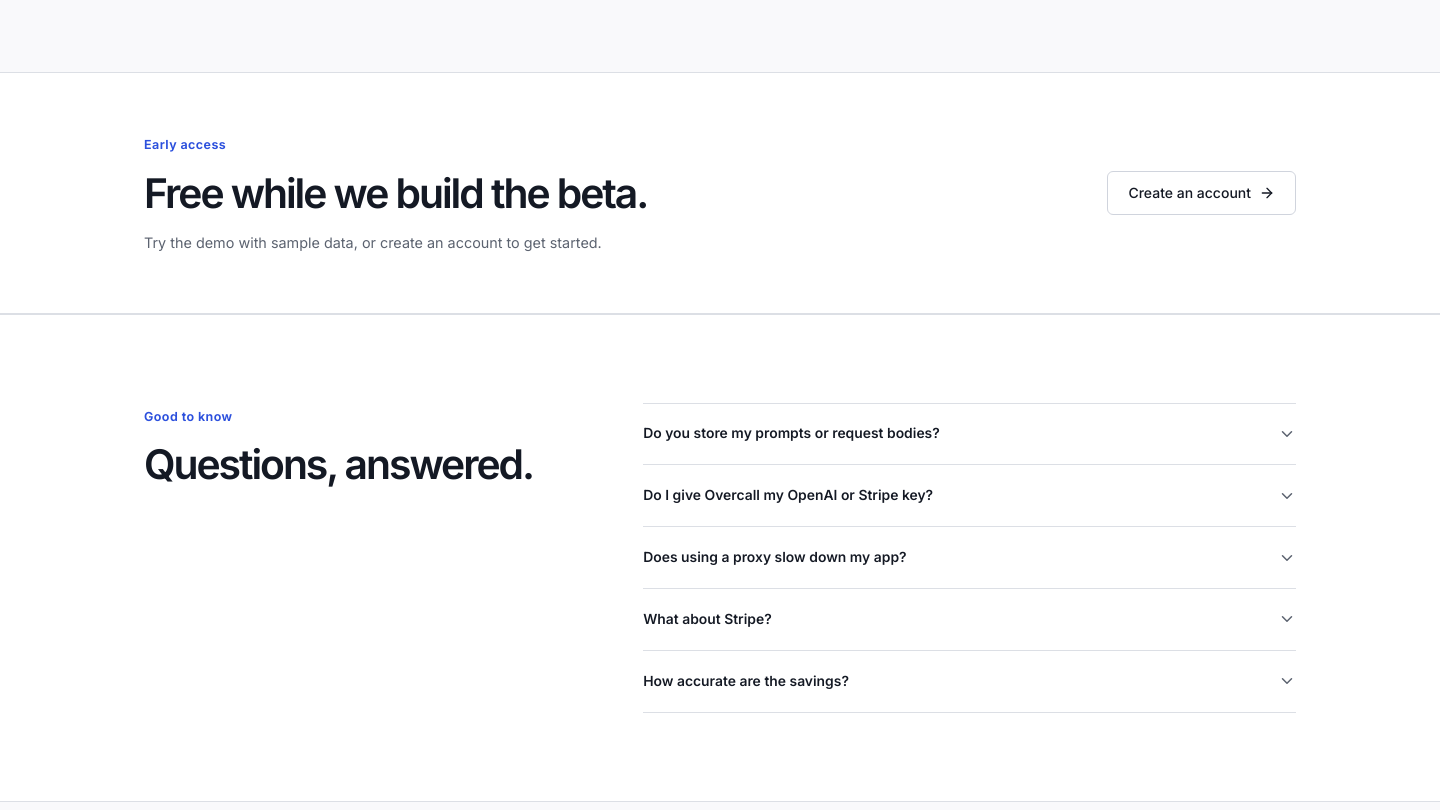
Scenario: landing page › opens an FAQ with the keyboard
(page scrolled)
Click the heading "Do you store my prompts or request bodies?" at (791, 433), box 643,425 -> 1296,443
(page scrolled)
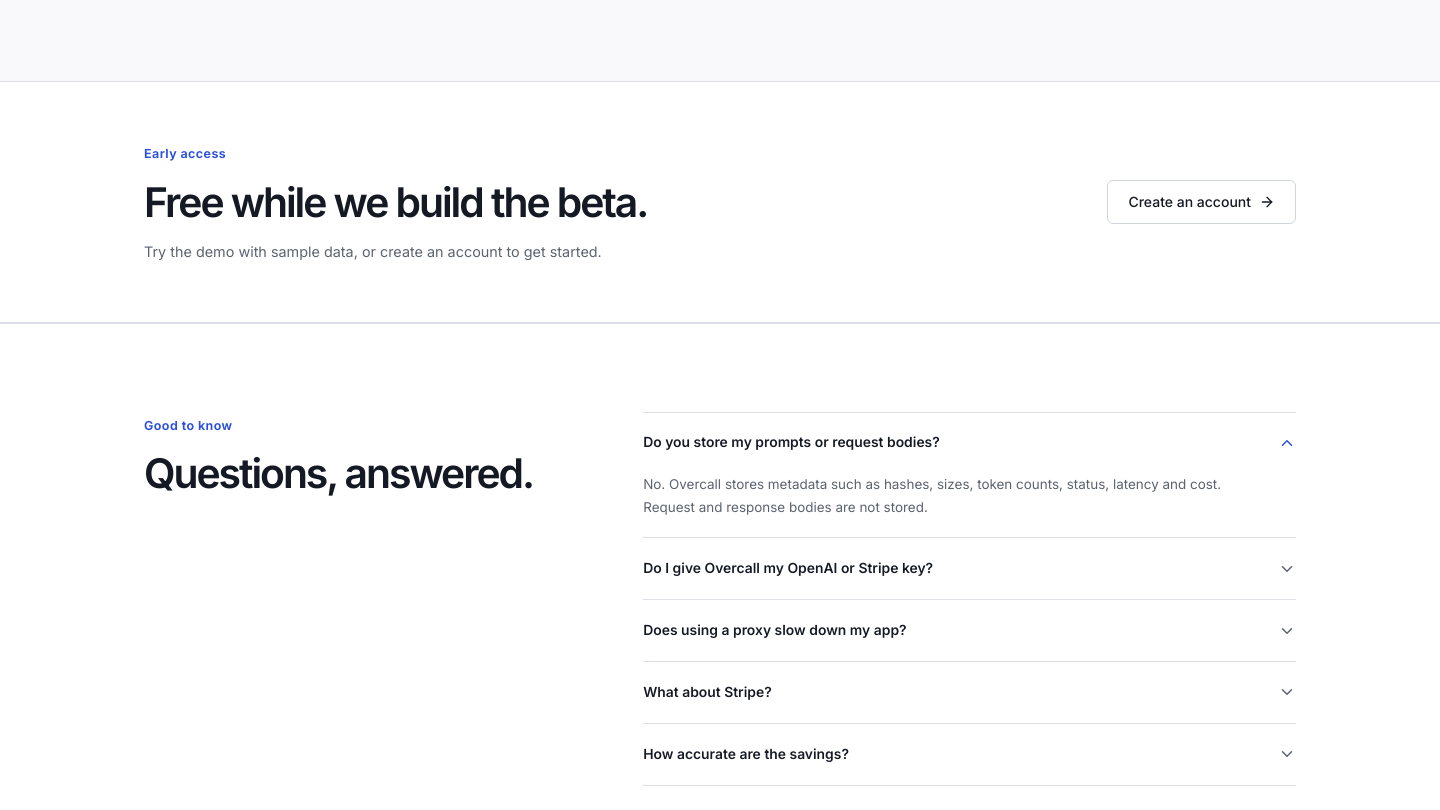
expect the text "Do you store my prompts or request bodies" has attribute open: met, box 643,412 -> 1296,538
